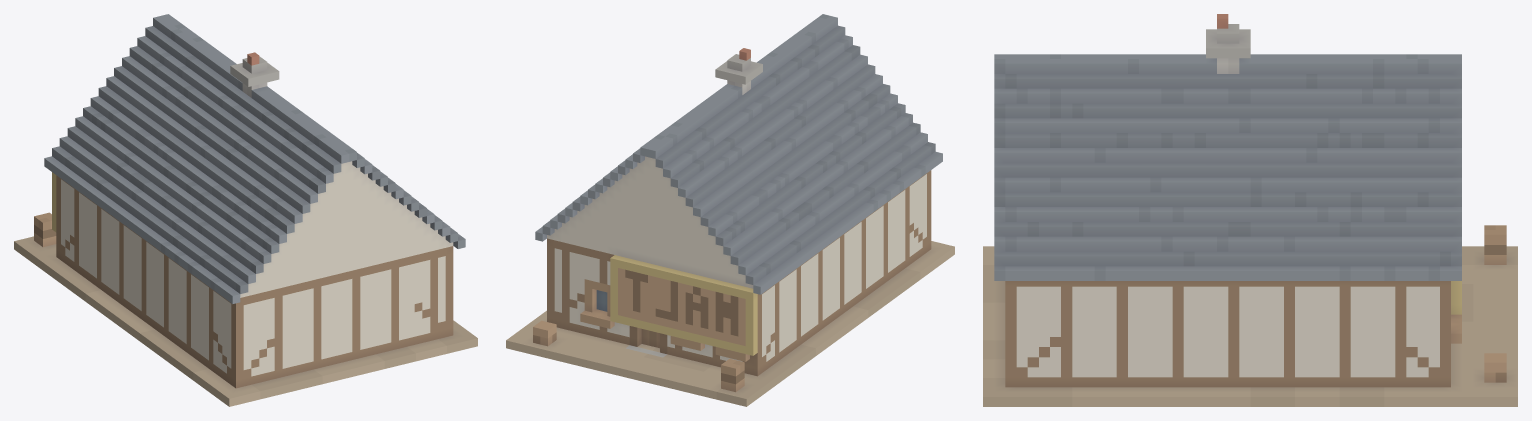
Rendered from malt_house.glb.
The picture shows the model from 3 angles, left to right: view 1: azimuth 30°, elevation 25°; view 2: azimuth 150°, elevation 25°; view 3: azimuth 270°, elevation 25°; orthographic projection. The views are drawn at different scales.
Parts seen in each view (by area): view 1: malt_house; view 2: malt_house; view 3: malt_house.
Part boxes in pixels (left/top/right/bottom): malt_house: left=14, top=14, right=477, bottom=406; malt_house: left=506, top=14, right=954, bottom=406; malt_house: left=983, top=14, right=1517, bottom=406.
Size of the model in its own units: 4 by 3.88 by 6.
